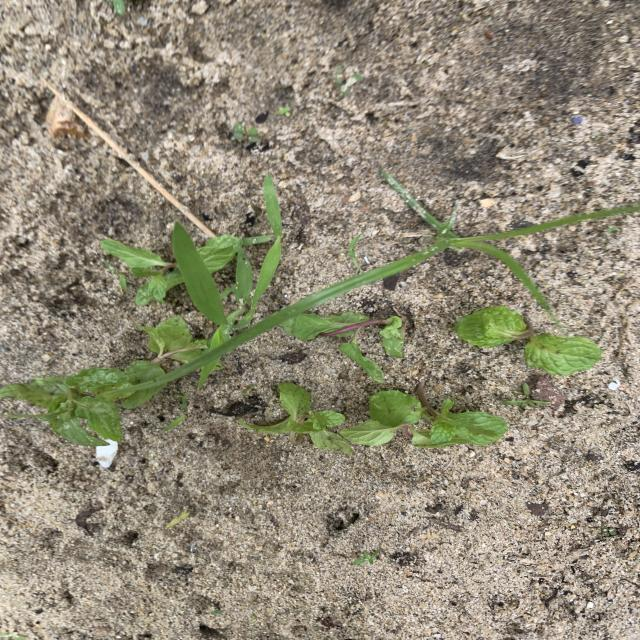crop: (0, 361, 165, 467), (340, 381, 508, 448), (283, 312, 404, 383), (243, 382, 353, 454), (101, 238, 184, 306), (525, 333, 602, 376), (137, 317, 208, 363), (453, 306, 529, 347), (198, 235, 239, 274)
weed: (339, 204, 640, 310), (237, 175, 282, 329), (173, 222, 226, 325), (503, 373, 565, 411), (223, 257, 254, 321), (208, 324, 231, 350), (200, 359, 222, 384)
